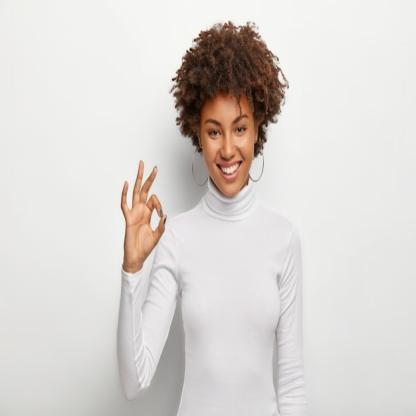ok: (118, 156, 168, 272)
